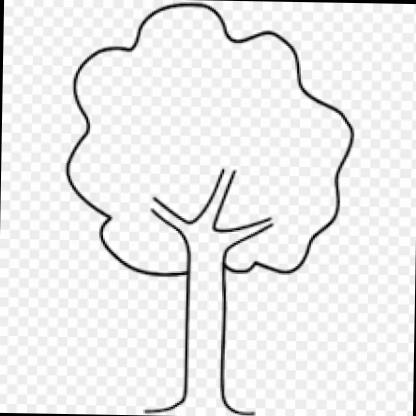branch_cut: (152, 166, 272, 254)
crown_cloud: (66, 2, 356, 274)
trunk_straight: (180, 280, 230, 398)
